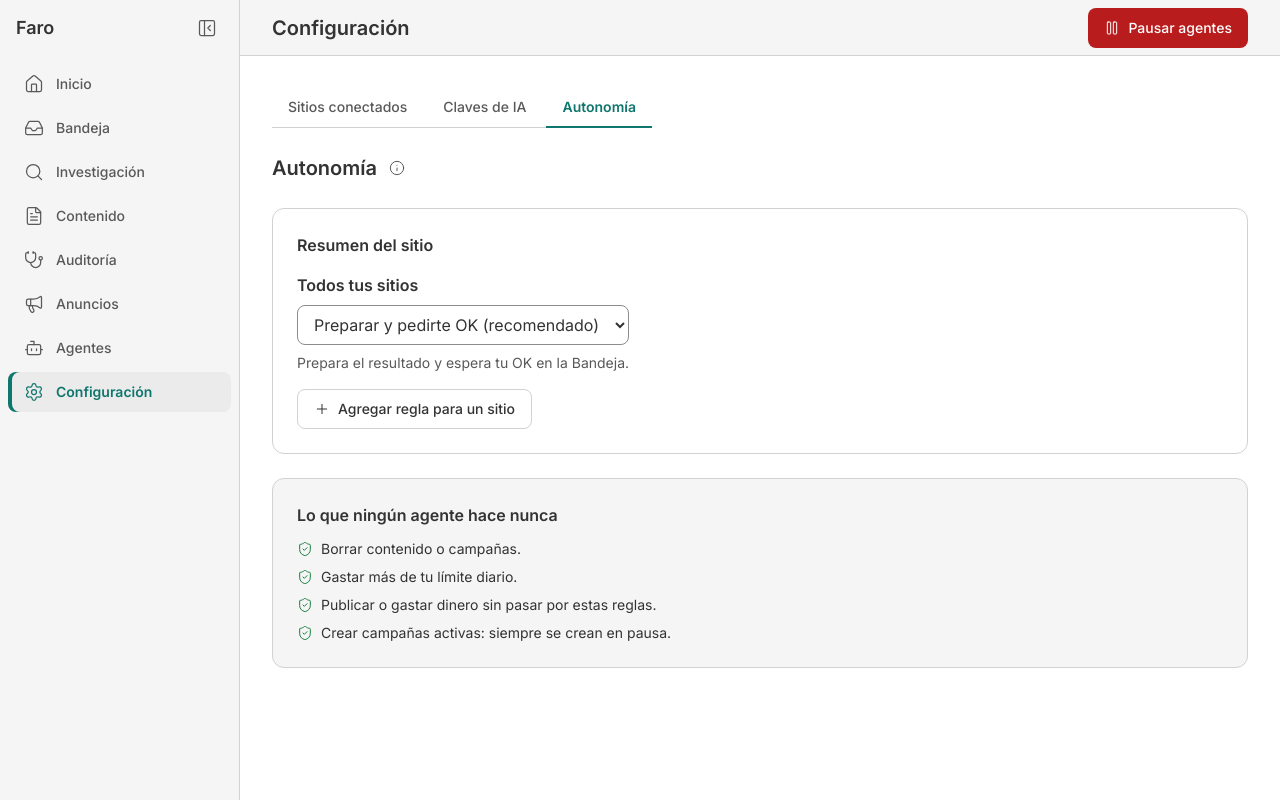
Configuración → Autonomía (spec F1b §3.7) › regla general: cuatro niveles con su explicación; nivel 1 por defecto
Select "Solo sugerir" in the dropdown named "Nivel de Resumen del sitio en Todos tus sitios" at (463, 325), box [297, 305, 629, 345]
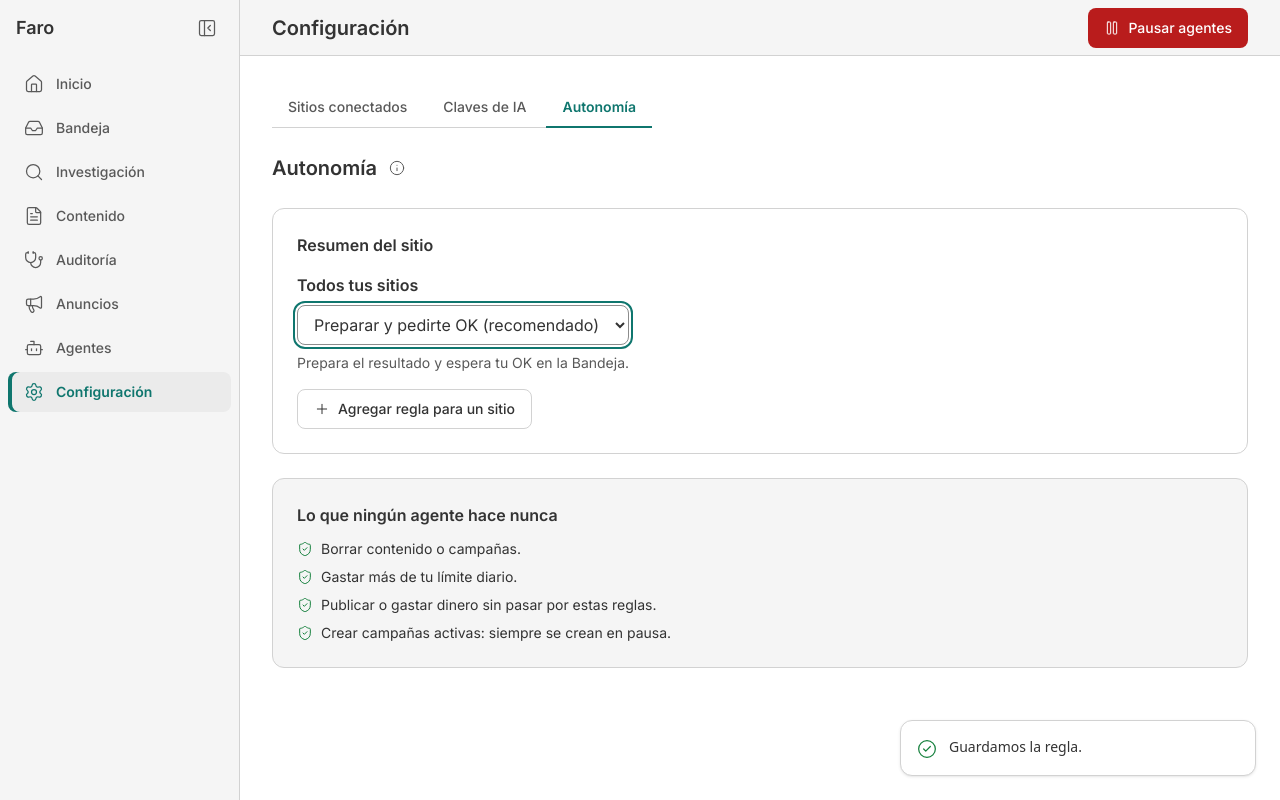
Check: the text "Guardamos la regla." is shown, box [949, 737, 1082, 757]
